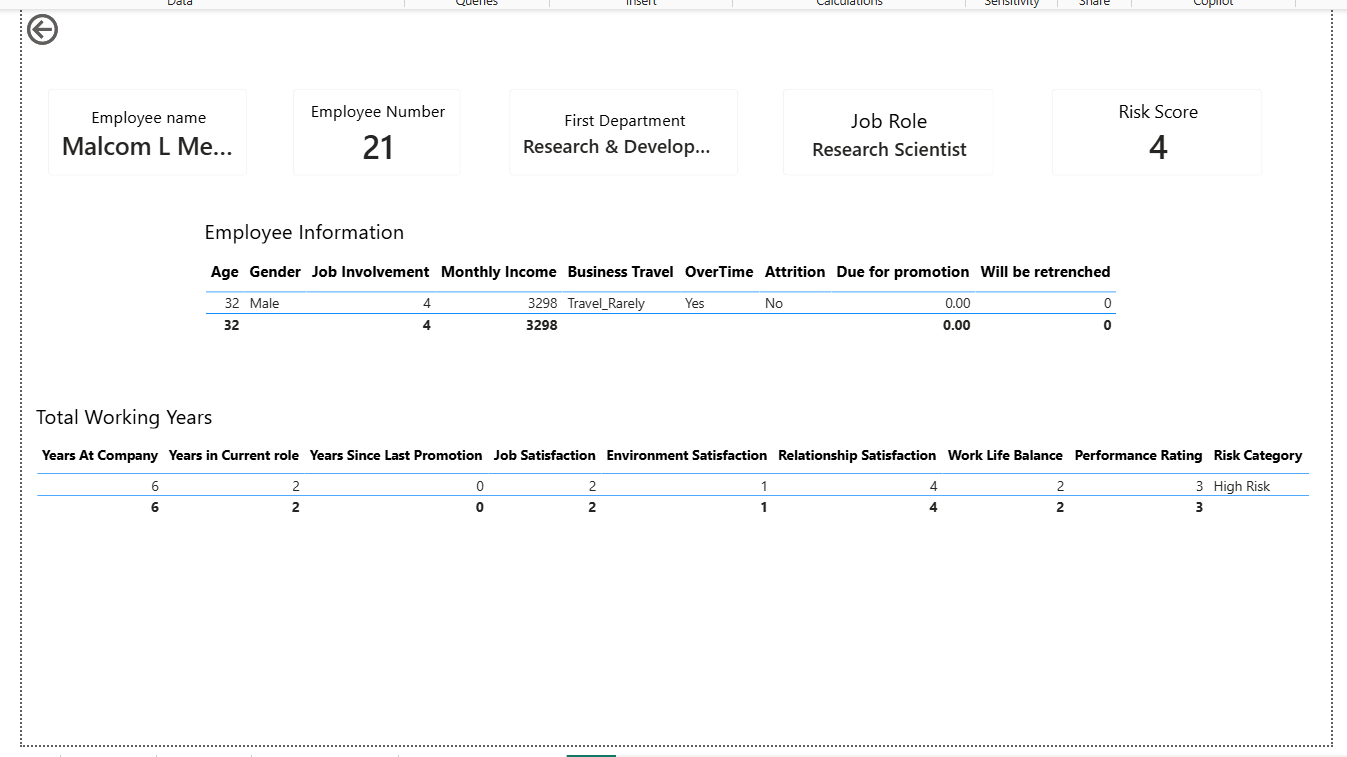

This screenshot's page, from the dashboard's own definition file:
{"tool":"powerbi","page":{"name":"Employee Details","canvas":[1280,720],"ordinal":1},"visuals":[{"type":"actionButton","box":[0,0,100,40],"z":0},{"type":"cardVisual","fields":{"Data":["Min(Employee_Master.Employee name)"]},"box":[8.7,60.8,229.6,119.2],"z":1000},{"type":"cardVisual","fields":{"Data":["Measures#.Selected Employee Number"]},"box":[248.3,60.8,198.6,119.2],"z":2000},{"type":"cardVisual","fields":{"Data":["Min(Employee_Master.Department)"]},"box":[459.3,60.8,258.2,119.2],"z":3000},{"type":"cardVisual","fields":{"Data":["Min(Employee_Master.JobRole)"]},"box":[727.4,60.8,240.8,119.2],"z":4000},{"type":"cardVisual","fields":{"Data":["Sum(Employee_Master.Risk Score)"]},"box":[990.5,60.8,240.8,119.2],"z":5000},{"type":"tableEx","title":"Employee Information","fields":{"Values":["Sum(Employee_Master.Age)","Employee_Master.Gender","Sum(Employee_Master.JobInvolvement)","Sum(Employee_Master.MonthlyIncome)","Employee_Master.Business Travel","Employee_Master.OverTime","Employee_Master.Attrition","Sum(Employee_Master.Due for promotion)","Sum(Employee_Master.Will be retrenched)"]},"box":[173.8,203.6,932.2,131.6],"z":6000},{"type":"tableEx","title":"Total Working Years","fields":{"Values":["Sum(Employee_Master.YearsAtCompany)","Sum(Employee_Master.YearsInCurrentRole)","Sum(Employee_Master.YearsSinceLastPromotion)","Sum(Employee_Master.JobSatisfaction)","Sum(Employee_Master.EnvironmentSatisfaction)","Sum(Employee_Master.RelationshipSatisfaction)","Sum(Employee_Master.WorkLifeBalance)","Sum(Employee_Master.PerformanceRating)","Employee_Master.Risk Category"]},"box":[8.7,383.6,1257.4,117.9],"z":7000},{"type":"actionButton","box":[0,0,100,40],"z":8000}]}

Visuals, with their boxes on the page's 1280x720 design canvas (x1, y1, x2, y2). These are canvas units, not pixel positions in the 1347x757 screenshot, which may show the page scaled, cropped or inside an application window:
actionButton: [x1=0, y1=0, x2=100, y2=40]
cardVisual - Min(Employee_Master.Employee name): [x1=9, y1=61, x2=238, y2=180]
cardVisual - Measures#.Selected Employee Number: [x1=248, y1=61, x2=447, y2=180]
cardVisual - Min(Employee_Master.Department): [x1=459, y1=61, x2=718, y2=180]
cardVisual - Min(Employee_Master.JobRole): [x1=727, y1=61, x2=968, y2=180]
cardVisual - Sum(Employee_Master.Risk Score): [x1=990, y1=61, x2=1231, y2=180]
"Employee Information" tableEx: [x1=174, y1=204, x2=1106, y2=335]
"Total Working Years" tableEx: [x1=9, y1=384, x2=1266, y2=502]
actionButton: [x1=0, y1=0, x2=100, y2=40]
